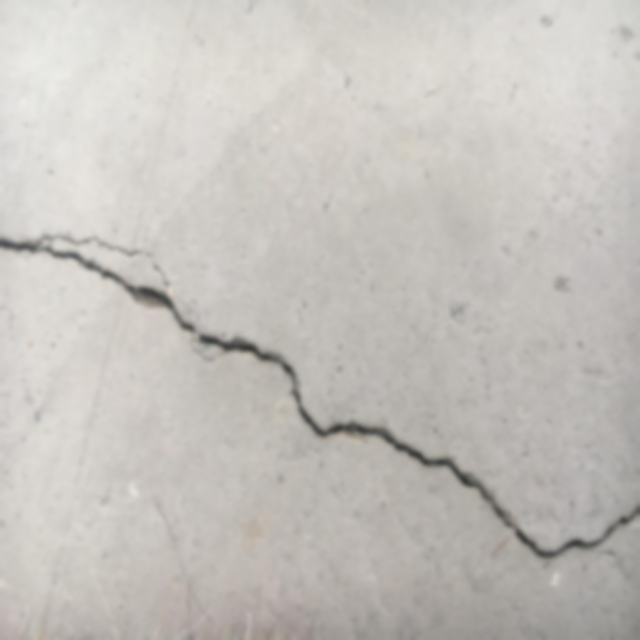SurfaceCrack: (1, 152, 640, 621)
